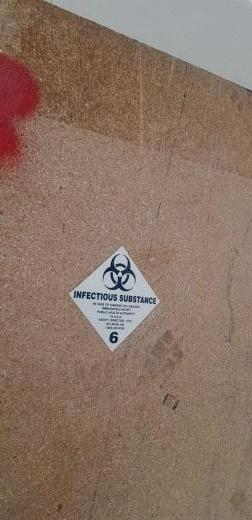infectious-substance: (69, 246, 161, 352)
